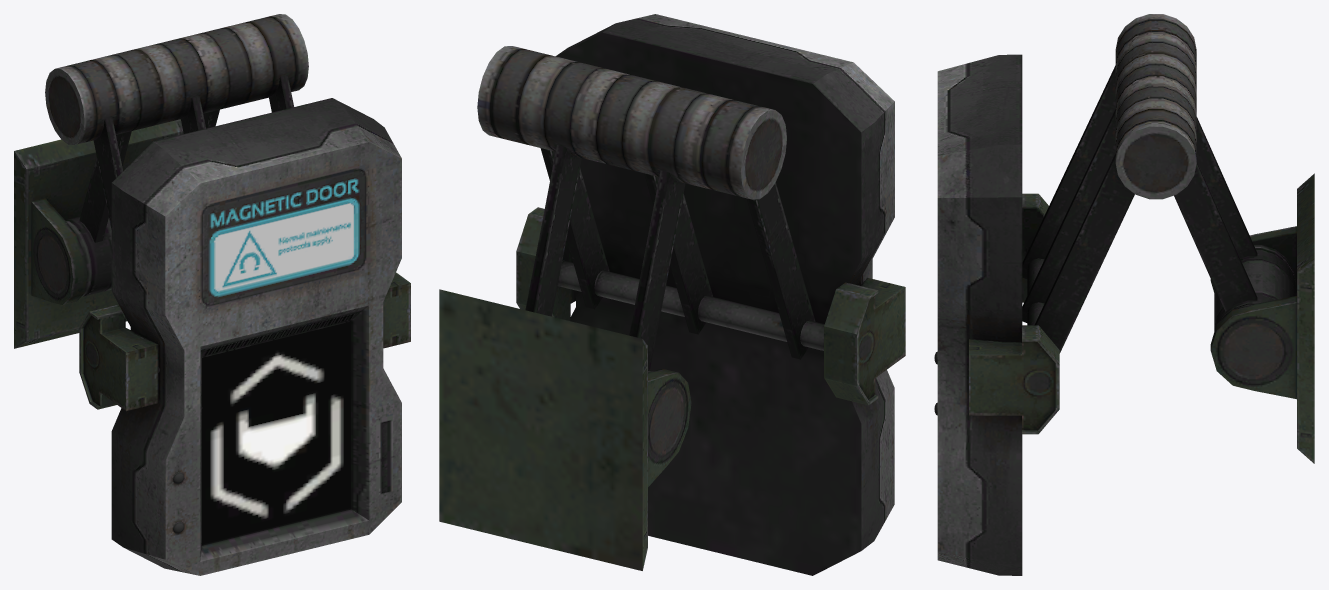
File: laboratory.DAE
3 views of the same model, side by side, from view 1: azimuth 30°, elevation 25°; view 2: azimuth 150°, elevation 25°; view 3: azimuth 270°, elevation 25° (orthographic). The views are drawn at different scales.
Visible parts, largest first — view 1: laboratory; view 2: laboratory; view 3: laboratory.
Part boxes in pixels (<box>): laboratory: <box>14,14,410,575</box>; laboratory: <box>439,14,905,575</box>; laboratory: <box>934,14,1314,575</box>.
Bounding box in the file's own units: 15.96 × 23.51 × 17.6.
